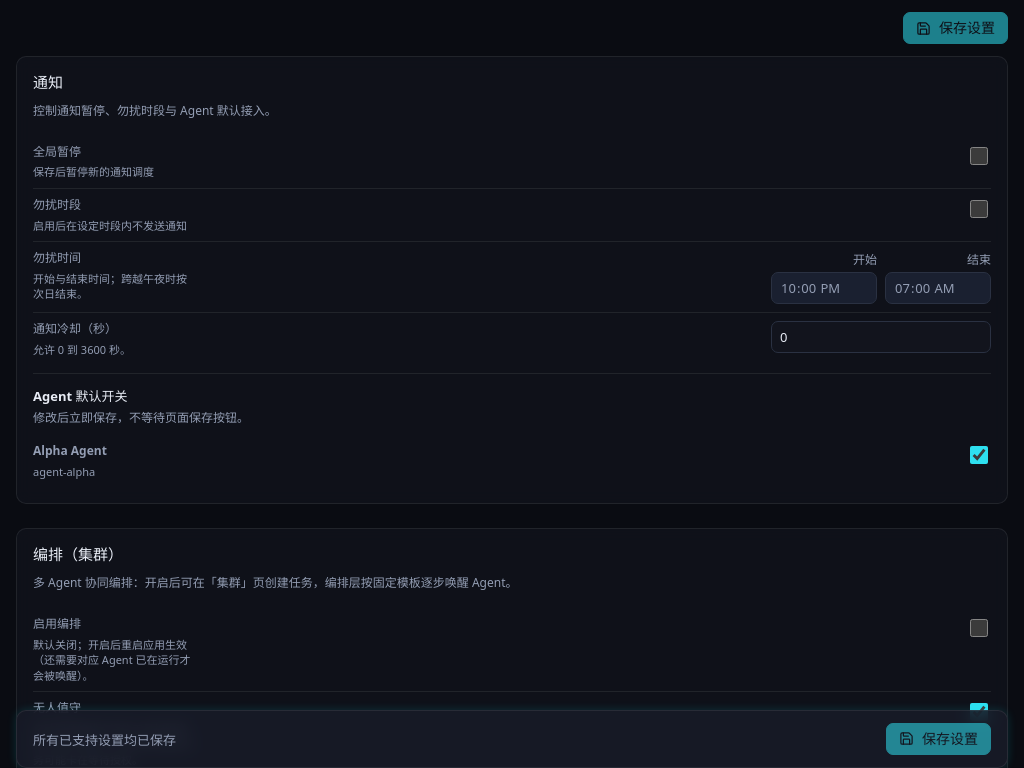
SettingsPage › rolls the draft back and keeps the saved value when saving fails
The image size is (1024, 768).
What coordinates should you click on to do the following:
click the switch named "全局暂停"
I would click on:
 (979, 156)
Its box is [970,147,988,165].
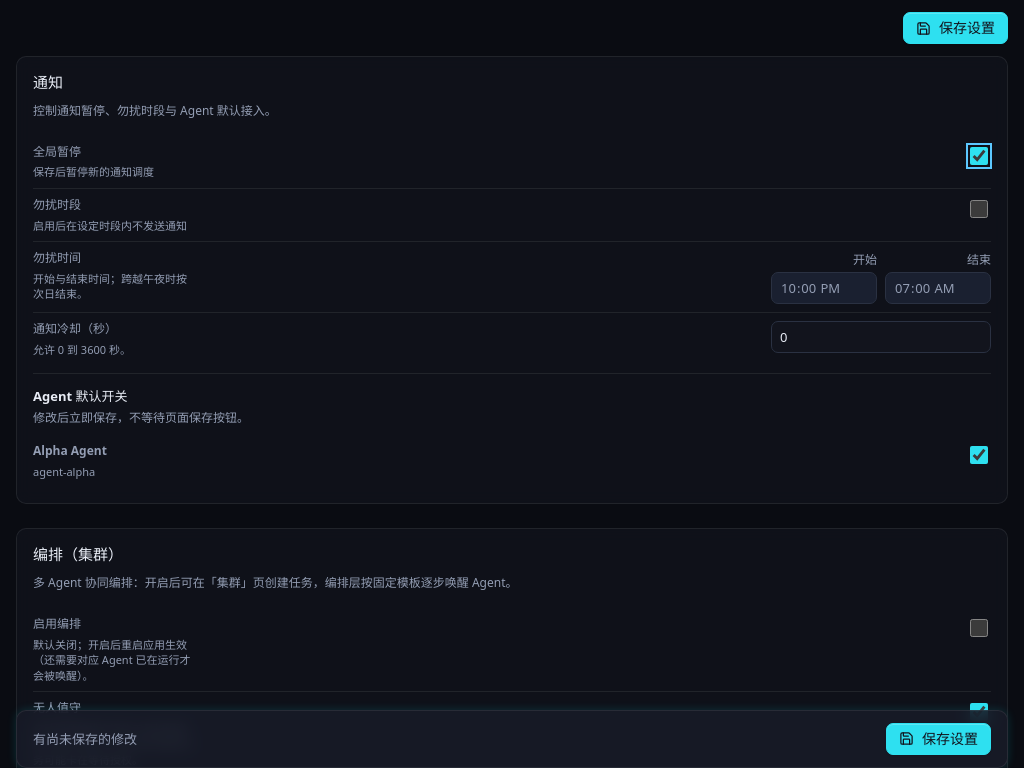
Check: the switch named "全局暂停" is checked, box [970,147,988,165]
What coordinates should you click on to do the following:
click the button "保存设置" in the row of "有尚未保存的修改"
I would click on:
 (938, 739)
Its box is [886,723,991,755].
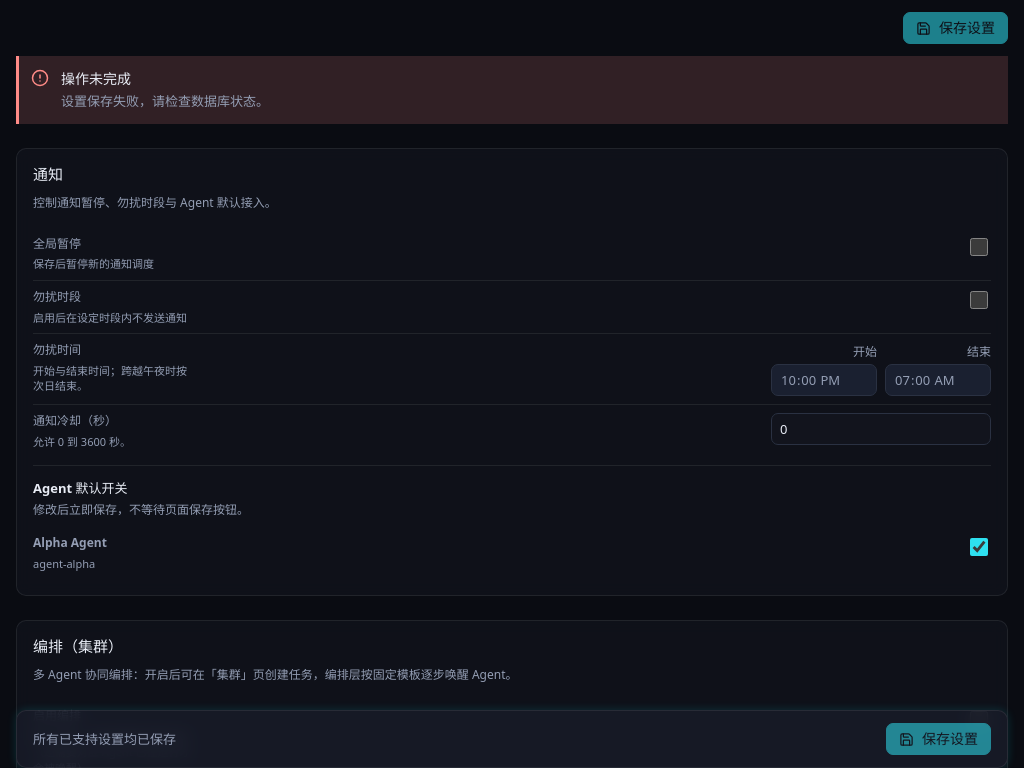
Check: the switch named "全局暂停" is not checked, box [970,238,988,256]
Check: the message shows "设置保存失败，请检查数据库状态", box [61,92,269,110]
